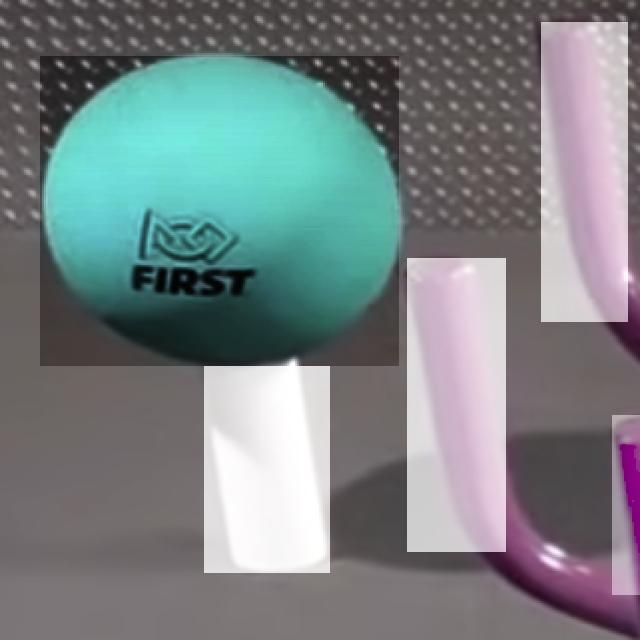Algae: (40, 56, 399, 366)
Coral: (204, 355, 330, 573)
Reef: (407, 258, 506, 552), (541, 22, 628, 322), (612, 415, 640, 595)
